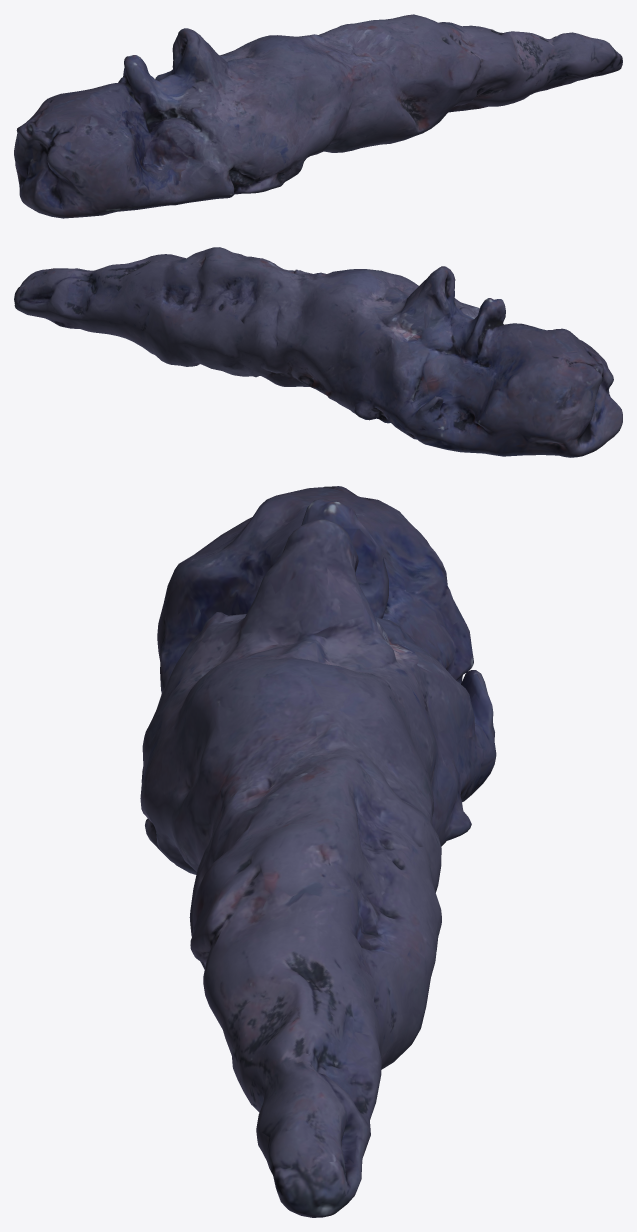
The model's file is Nicolas_Car.glb.
The picture shows the model from 3 angles, top to bottom: view 1: azimuth 30°, elevation 25°; view 2: azimuth 150°, elevation 25°; view 3: azimuth 270°, elevation 25°; orthographic projection. The views are drawn at different scales.
Parts seen in each view (by area): view 1: Nicolas_Car; view 2: Nicolas_Car; view 3: Nicolas_Car.
Boxes of the visible parts, x1,y1,x2,y2 form: Nicolas_Car: (14, 14, 622, 218); Nicolas_Car: (14, 247, 622, 457); Nicolas_Car: (140, 486, 496, 1217).
Size of the model in its own units: 2.23 by 0.5261 by 0.5769.
1 material, 1 textured.
